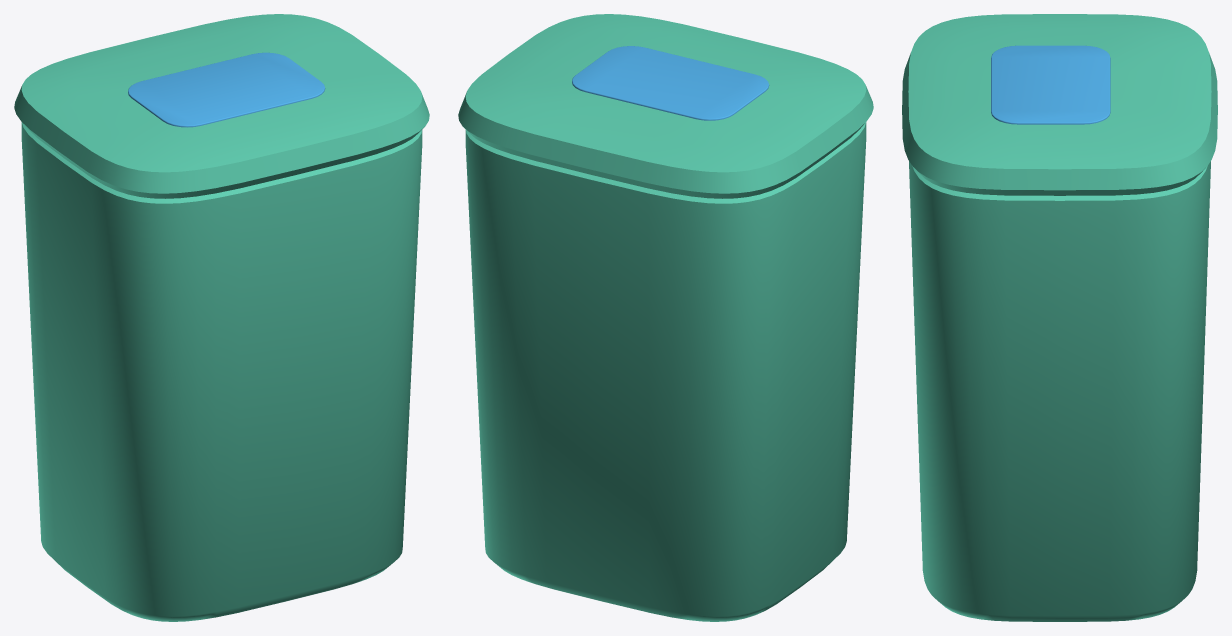
The model's file is cesto_roupa_tampa_verde_agua.glb.
3 renders of one model, left to right at view 1: azimuth 30°, elevation 25°; view 2: azimuth 150°, elevation 25°; view 3: azimuth 270°, elevation 25°, orthographic.
Parts seen in each view (by area): view 1: cesto_roupa_tampa_verde_agua, tampa; view 2: cesto_roupa_tampa_verde_agua, tampa; view 3: cesto_roupa_tampa_verde_agua, tampa.
Part boxes in pixels (x1,y1,x2,y2): cesto_roupa_tampa_verde_agua: (21, 122, 422, 621); tampa: (14, 14, 429, 198); cesto_roupa_tampa_verde_agua: (465, 122, 866, 621); tampa: (458, 14, 873, 198); cesto_roupa_tampa_verde_agua: (909, 161, 1210, 621); tampa: (902, 14, 1217, 195).
Bounding box in the file's own units: 0.414 × 0.567 × 0.344.
Materials: 1 (1 with a texture image).
